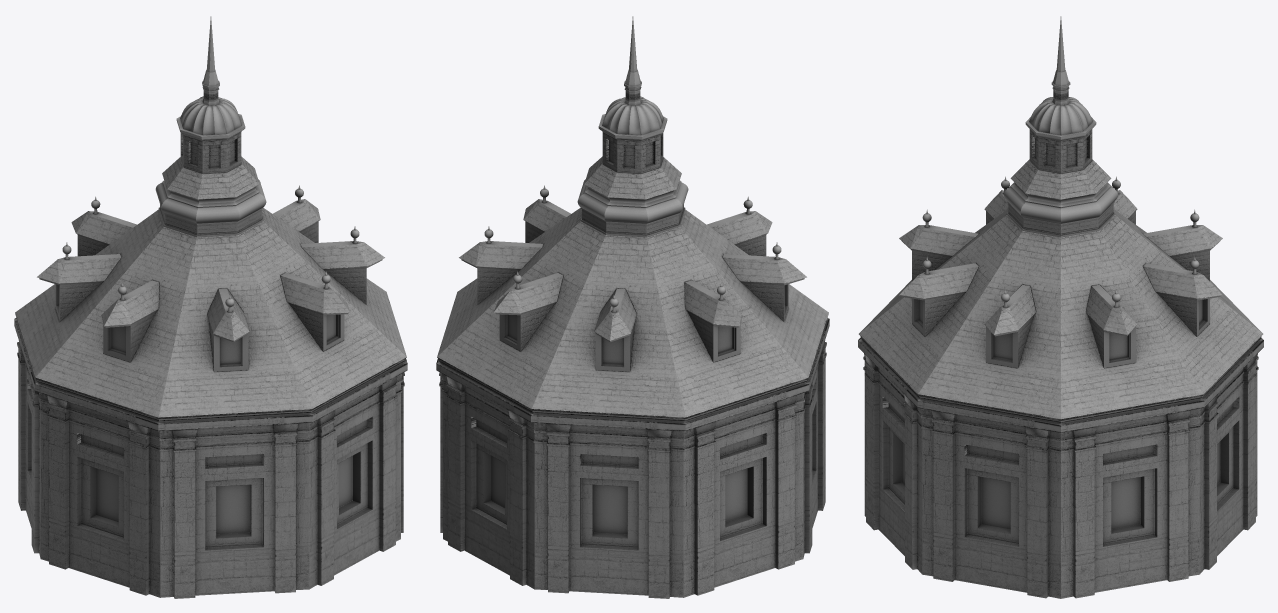
Rendered from bg_tower1.dae.
3 renders of one model, left to right at view 1: azimuth 30°, elevation 25°; view 2: azimuth 150°, elevation 25°; view 3: azimuth 270°, elevation 25°, orthographic.
Visible parts, largest first — view 1: bgTower1; view 2: bgTower1; view 3: bgTower1.
Part boxes in pixels (x1,y1,x2,y2): bgTower1: (14,16,407,598); bgTower1: (436,16,829,598); bgTower1: (858,16,1263,598).
Bounding box in the file's own units: 13 × 13 × 17.74.
1 material, 1 textured.
